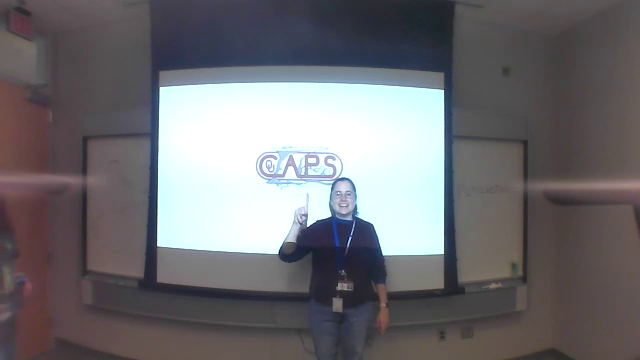up: (291, 190, 312, 228)
